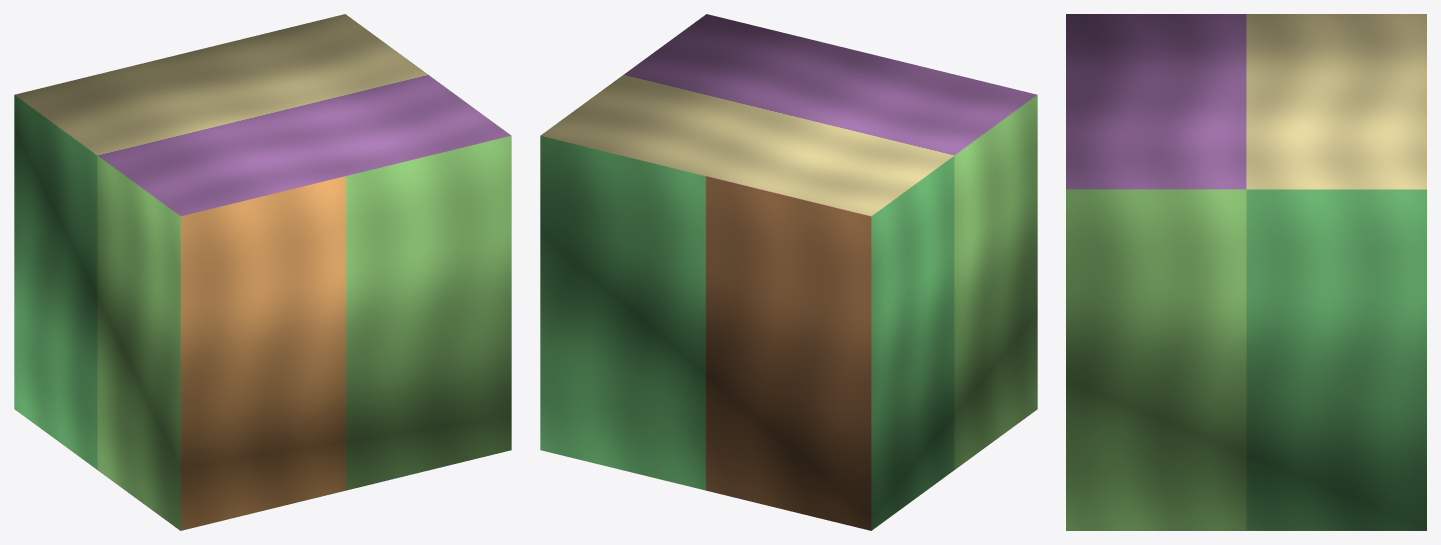
The model's file is mushroom_bouncy.glb.
3 renders of one model, left to right at view 1: azimuth 30°, elevation 25°; view 2: azimuth 150°, elevation 25°; view 3: azimuth 270°, elevation 25°, orthographic. The views are drawn at different scales.
Visible parts, largest first — view 1: col; view 2: col; view 3: col.
Boxes of the visible parts, left/top/right/bottom form: col: left=14, top=14, right=511, bottom=530; col: left=540, top=14, right=1037, bottom=530; col: left=1066, top=14, right=1426, bottom=530.
Bounding box in the file's own units: 1.3 × 1.18 × 1.13.
Materials: 1 (1 with a texture image).
